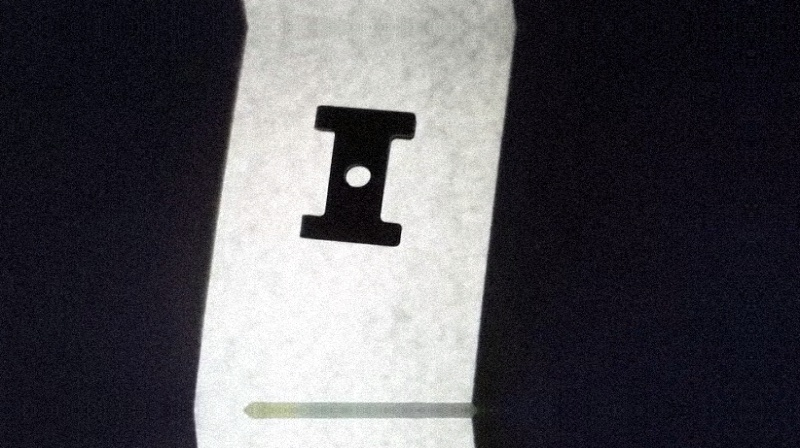O002: (294, 100, 420, 254)
